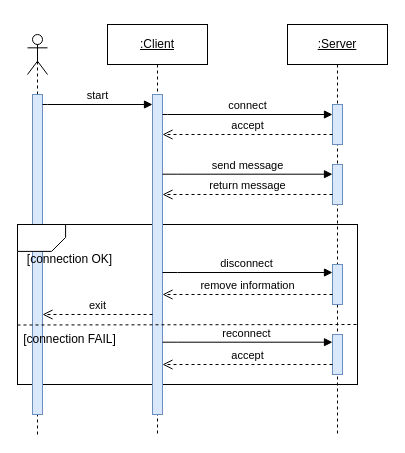
Some shapes in this 405 by 453 pixel diagram are drawn without their labels. The box of each missing label's shape, as (x1, y1, x2, y2) in pixels:
alt: (16, 224, 66, 251)
User: (26, 34, 48, 74)
